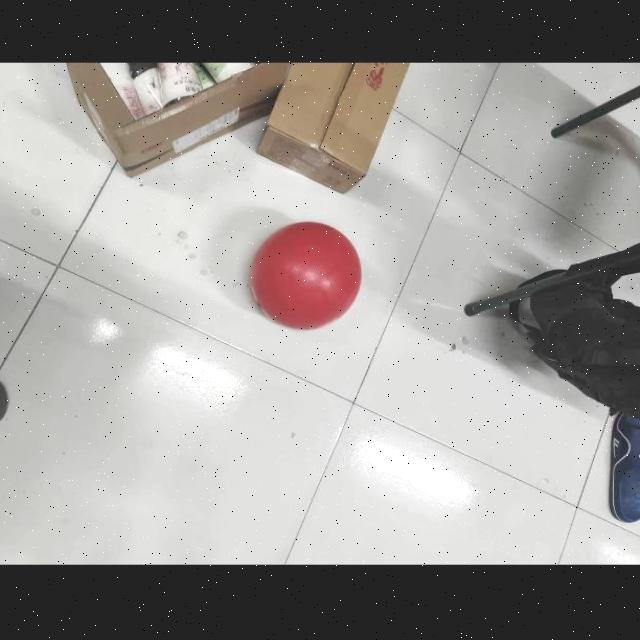R: (244, 212, 376, 336)
